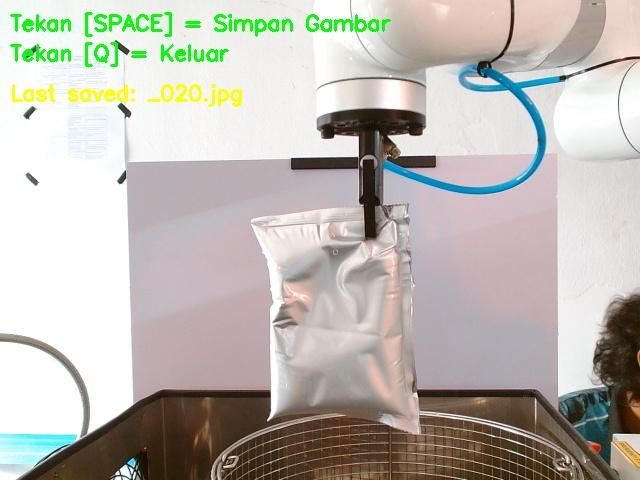retort-pouch: (250, 202, 422, 432)
